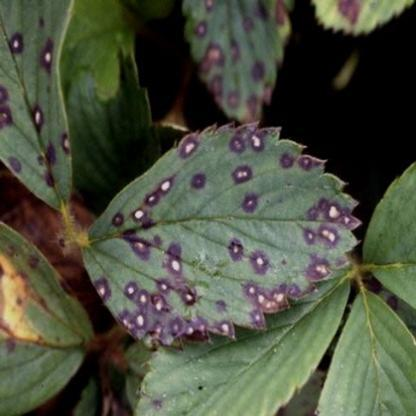Strawberry_Leaf_Spot: (78, 120, 364, 353), (133, 267, 352, 415), (0, 221, 95, 415), (0, 0, 76, 214), (179, 0, 295, 125), (309, 0, 415, 36)
